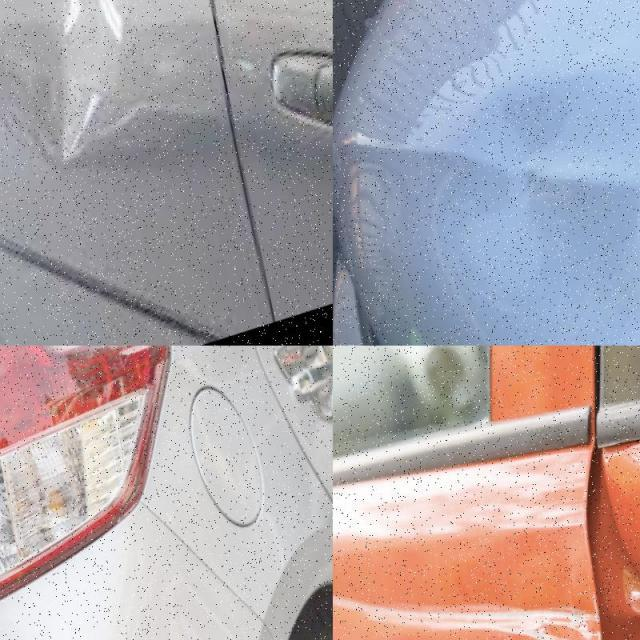car damage: (391, 44, 581, 318), (21, 2, 140, 172)
